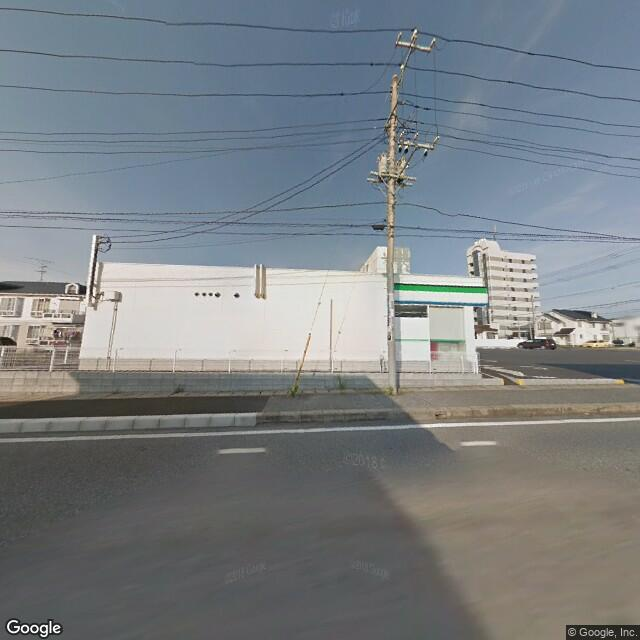family_mart: (394, 283, 491, 307)
